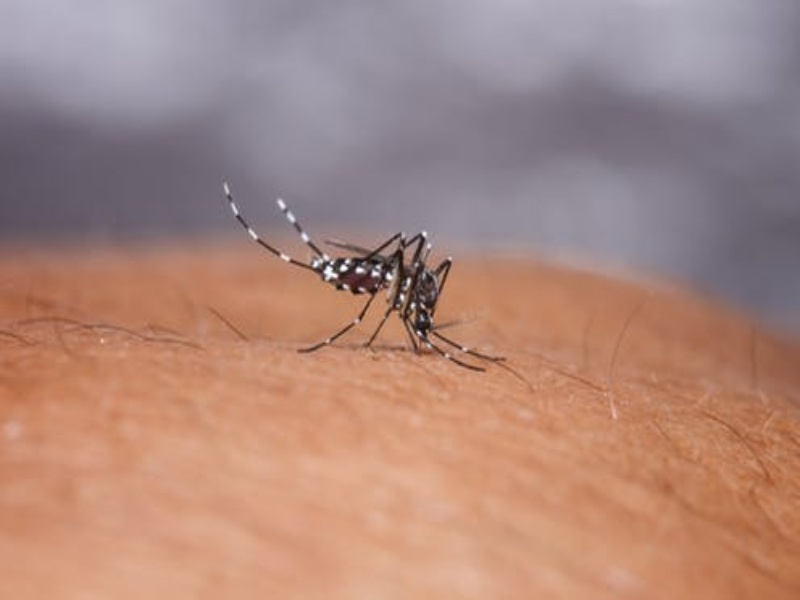dengue_mosquito: (228, 175, 471, 366)
